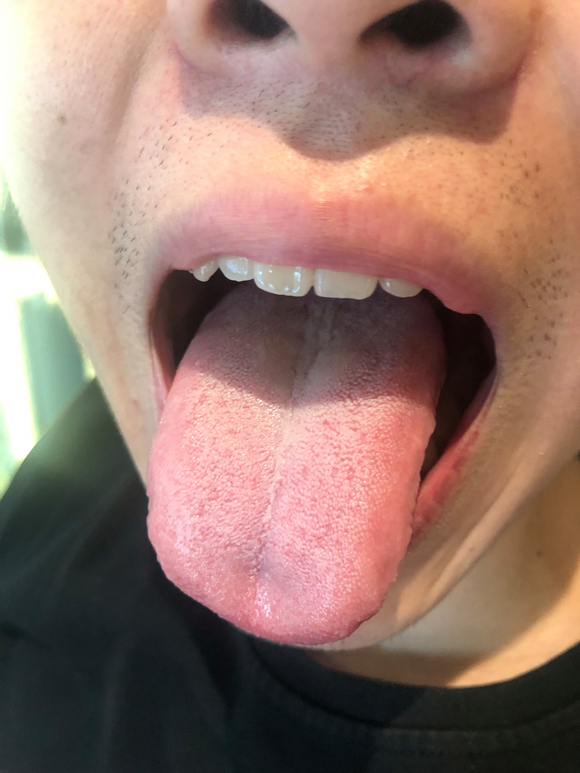baitaishe: (147, 272, 447, 645)
hongshe: (147, 272, 447, 645)
